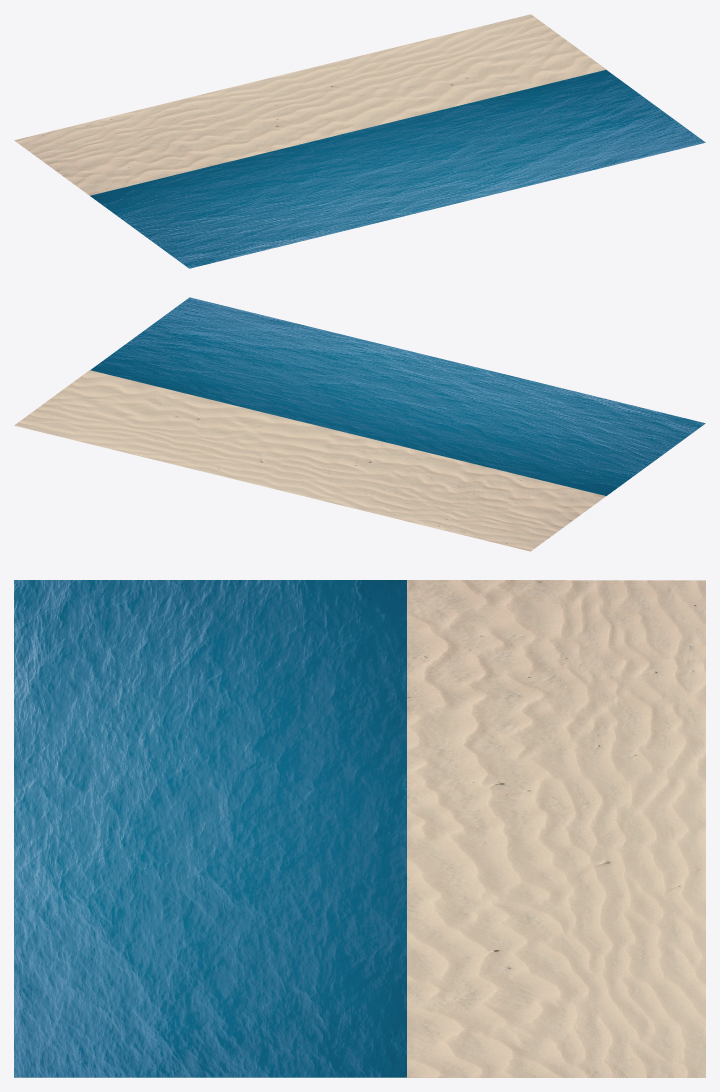
Rendered from beachScene.fbx.
3 renders of one model, top to bottom at view 1: azimuth 30°, elevation 25°; view 2: azimuth 150°, elevation 25°; view 3: azimuth 270°, elevation 25°, orthographic. The views are drawn at different scales.
Parts seen in each view (by area): view 1: pCube8, pCube9; view 2: pCube8, pCube9; view 3: pCube8, pCube9.
Part boxes in pixels (x1,y1,x2,y2): pCube8: (90,70,705,268); pCube9: (14,14,606,195); pCube8: (90,297,705,495); pCube9: (14,370,605,551); pCube8: (14,580,406,1077); pCube9: (407,580,705,1077).
Size of the model in its own units: 21592 by 1 by 12687.
2 materials, 2 textured.
